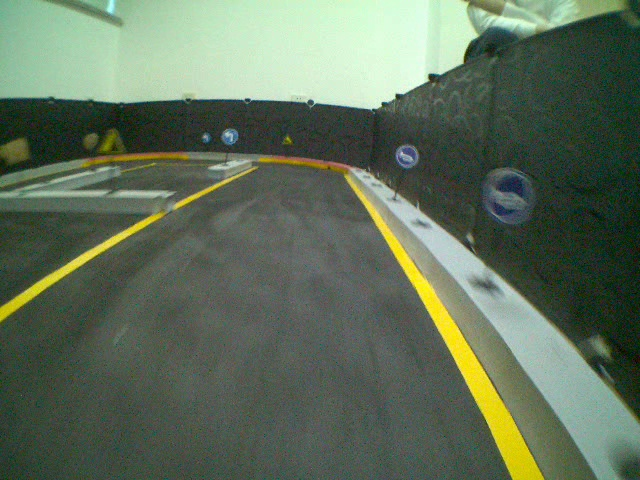fast: (96, 126, 128, 154), (279, 133, 295, 147)
horn: (481, 167, 536, 224), (395, 144, 421, 169)
turn: (221, 127, 239, 145), (200, 131, 212, 144)
